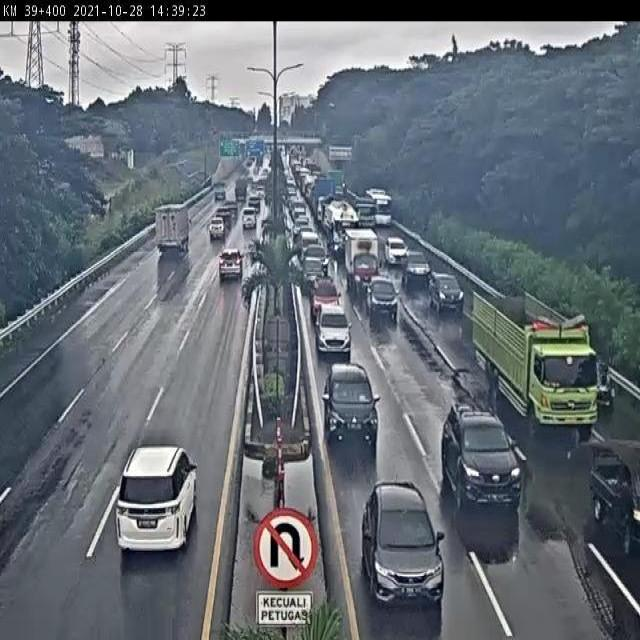car: (361, 478, 442, 598), (115, 450, 194, 550), (443, 401, 520, 503), (321, 363, 378, 440), (317, 305, 351, 352), (366, 275, 398, 316), (428, 272, 462, 309), (309, 274, 339, 314), (218, 244, 249, 279), (401, 255, 429, 285), (302, 244, 329, 271), (302, 257, 324, 288), (207, 219, 224, 244)
mid truck: (472, 289, 598, 432), (154, 205, 193, 258)
small truck: (589, 434, 640, 554), (344, 231, 378, 289)
